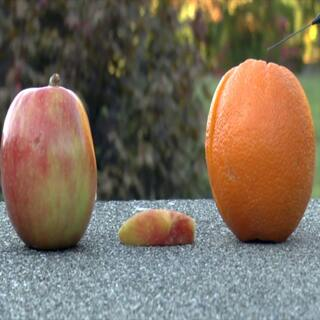apple: (8, 87, 190, 249)
orange: (204, 60, 314, 242)
